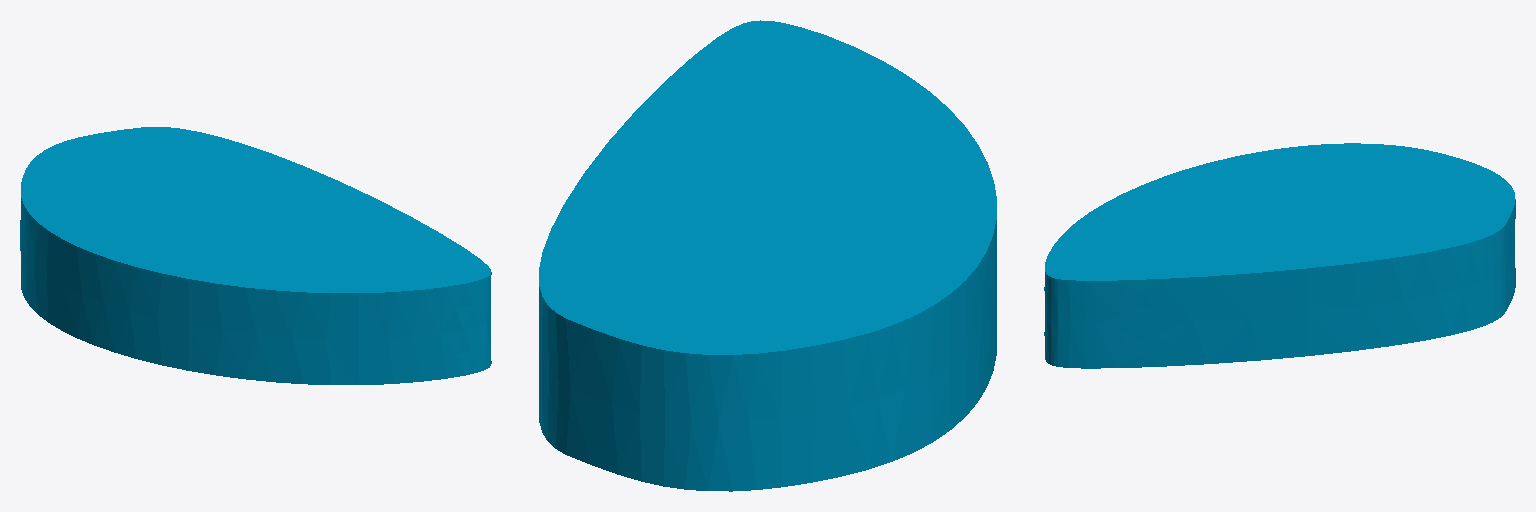
robot.urdf — my_contour:
<?xml version="1.0" ?>
<robot name="my_contour">
  <link name="contourLink">
    <inertial>
      <origin rpy="0 0 0" xyz="0 0 0"/>
       <mass value=".0"/>
       <inertia ixx="0" ixy="0" ixz="0" iyy="0" iyz="0" izz="0"/>
    </inertial>
    <visual>
      <origin rpy="0 0 1.5707" xyz="0.63 0 0"/>
      <geometry>
		<mesh filename="my_contour2.obj" scale="0.0005 0.0005 0.0005"/>
         <!--cylinder radius="0.1" length="0.1"/-->
      </geometry>
       <material name="white">
        <color rgba="0.02 0.63 0.80 1"/>
      </material>
    </visual>
    <collision>
      <origin rpy="0 0 1.5707" xyz="0.63 0 0"/>
      <geometry>
	    <mesh filename="my_contour2.obj" scale="0.0005 0.0005 0.0005"/>
         <!--cylinder radius="0.1" length="0.1"/-->
      </geometry>
    </collision>
  </link>
</robot>

--- Render facts (derived) ---
3 views of the same robot in one strip: view 1: azimuth 30°, elevation 25°; view 2: azimuth 150°, elevation 25°; view 3: azimuth 270°, elevation 25° (orthographic).
Robot: my_contour — 1 links, 0 joints (none); root link contourLink; default pose: all joints at 0.
Visible links, largest first — view 1: contourLink; view 2: contourLink; view 3: contourLink.
Boxes of the visible links, x1=… form: contourLink: x1=20, y1=127, x2=491, y2=384; contourLink: x1=539, y1=20, x2=996, y2=491; contourLink: x1=1044, y1=143, x2=1515, y2=368.
Size in the robot's own frame: 0.1679 by 0.2431 by 0.05 metres.
1 mesh visuals loaded from 1 distinct referenced files (1 OBJ).
